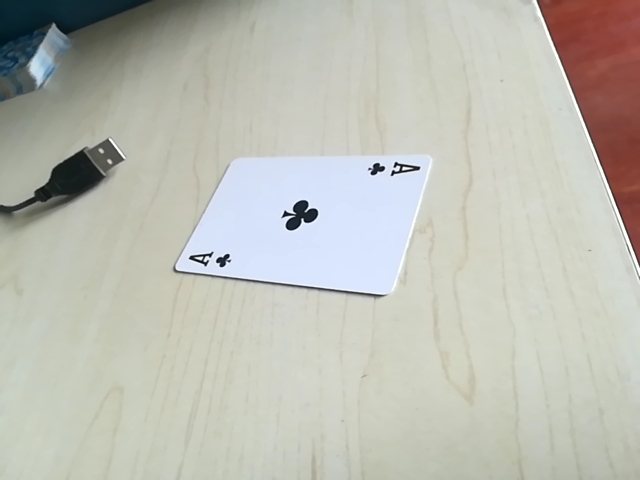mh a: (176, 245, 237, 276), (363, 157, 426, 183)
